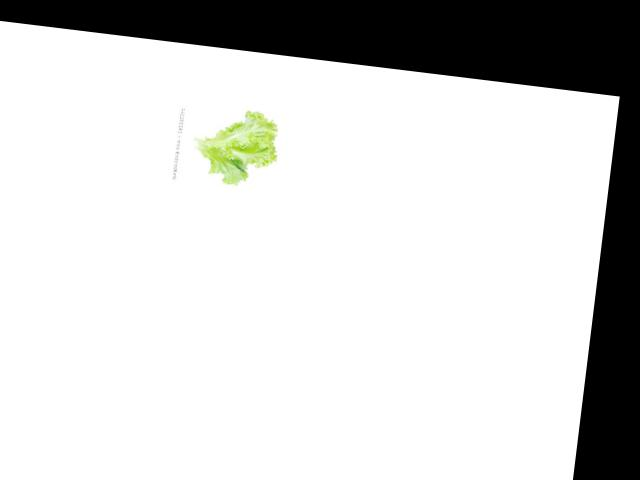lettuce: (182, 103, 284, 192)
